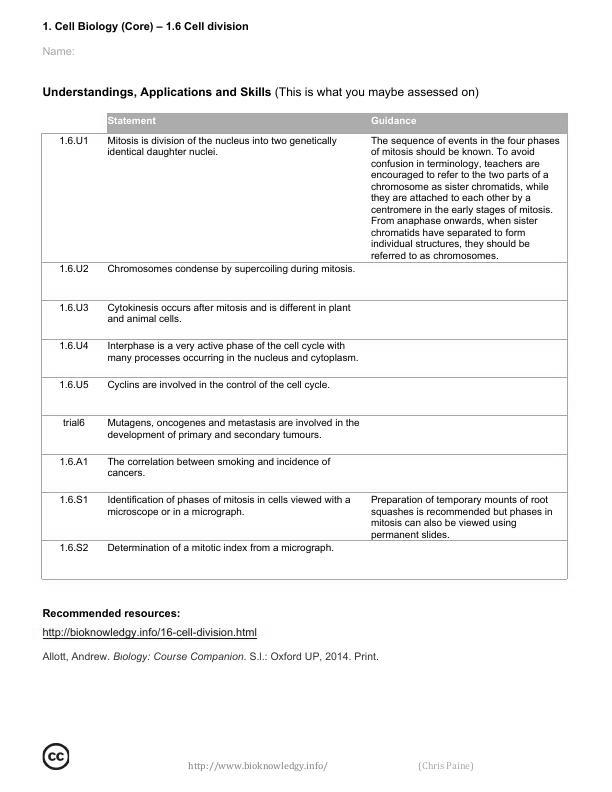table: (34, 110, 581, 589)
text: (36, 604, 394, 671), (40, 83, 482, 101), (36, 17, 255, 37), (34, 44, 81, 60)
